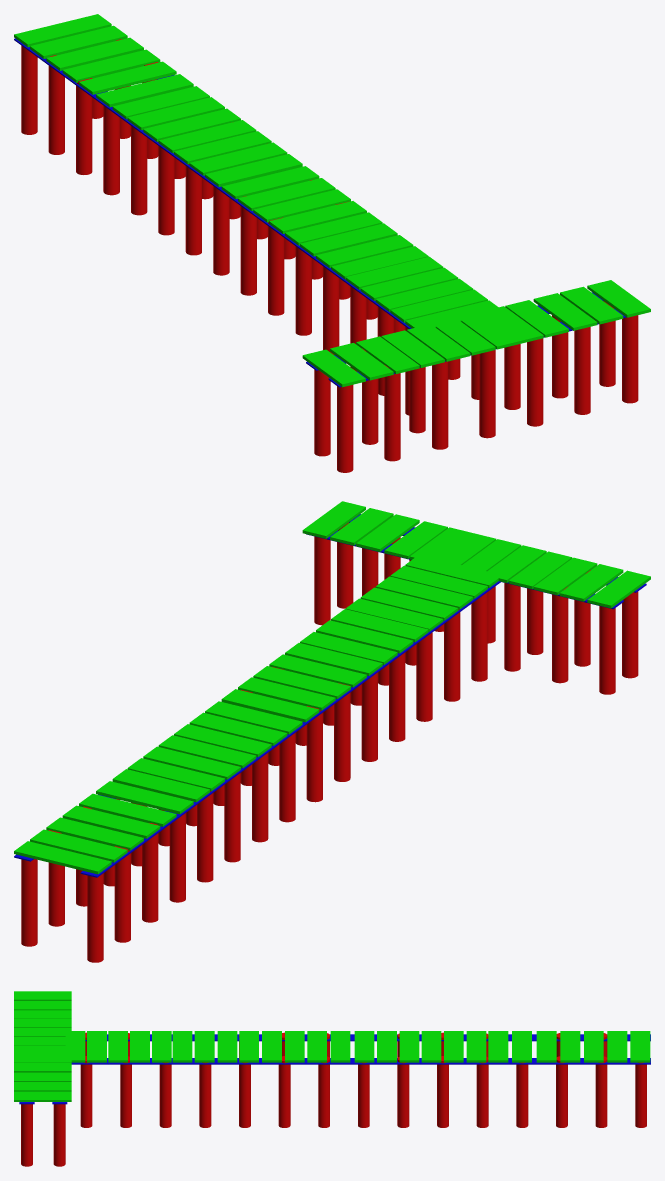
File: Jetty.fbx
3 renders of one model, top to bottom at view 1: azimuth 30°, elevation 25°; view 2: azimuth 150°, elevation 25°; view 3: azimuth 270°, elevation 25°, orthographic. The views are drawn at different scales.
Parts seen in each view (by area): view 1: pCylinder15, pCylinder16, pCylinder17, pCylinder14, pCylinder13, pCylinder12, pCylinder21, Support, pCylinder5, pCylinder22, pCylinder4, pCylinder8 (+48 smaller); view 2: pCylinder23, pCylinder14, pCylinder22, pCylinder15, pCylinder13, Support, pCylinder21, pCylinder5, pCylinder6, pCylinder19, pCylinder8, pCylinder20 (+48 smaller); view 3: Support, pCylinder22, pCylinder5, pCylinder19, pCylinder9, pCylinder21, pCylinder11, pCylinder8, pCylinder6, pCylinder1, pCylinder20, pCylinder7 (+44 smaller).
Boxes of the visible parts, x1,y1,x2,y2 form: pCylinder15: (337,315,638,472); pCylinder16: (384,327,590,461); pCylinder17: (432,338,543,449); pCylinder14: (314,301,615,456); pCylinder13: (362,315,568,444); pCylinder12: (409,344,520,433); pCylinder21: (76,62,158,174); Support: (14,38,626,387); pCylinder5: (268,201,350,315); pCylinder22: (48,39,130,154); pCylinder4: (295,246,377,335); pCylinder8: (158,142,240,235); pCylinder23: (21,859,103,962); pCylinder14: (314,536,615,694); pCylinder22: (48,830,130,942); pCylinder15: (337,522,638,678); pCylinder13: (362,548,568,683); Support: (14,514,646,877); pCylinder21: (76,806,158,922); pCylinder5: (268,667,350,781); pCylinder6: (240,690,322,802); pCylinder19: (131,791,213,882); pCylinder8: (158,773,240,862); pCylinder20: (103,799,185,902); Support: (19,1034,650,1104); pCylinder22: (595,1033,607,1127); pCylinder5: (278,1032,290,1127); pCylinder19: (476,1033,488,1127); pCylinder9: (397,1033,409,1127); pCylinder21: (556,1033,567,1127); pCylinder11: (80,1032,92,1127); pCylinder8: (437,1032,448,1127); pCylinder6: (318,1033,329,1127); pCylinder1: (159,1062,171,1127); pCylinder20: (516,1062,528,1127); pCylinder7: (199,1062,211,1127).
Size of the model in its own units: 12.99 by 3.8 by 32.16.
